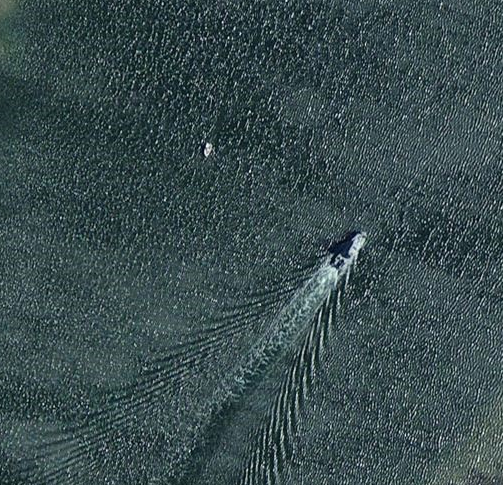ship: (343, 230, 373, 261), (199, 140, 217, 160)
